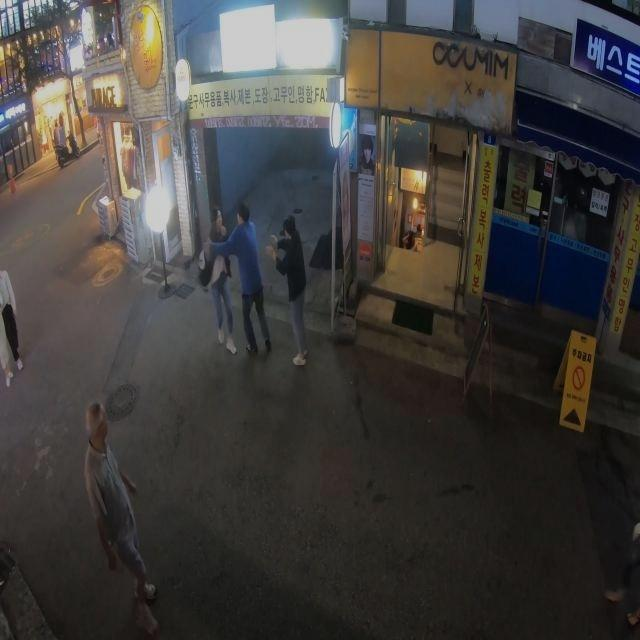fight: (202, 202, 270, 357)
non-fight: (76, 393, 160, 614), (271, 216, 312, 367), (0, 245, 24, 380)
